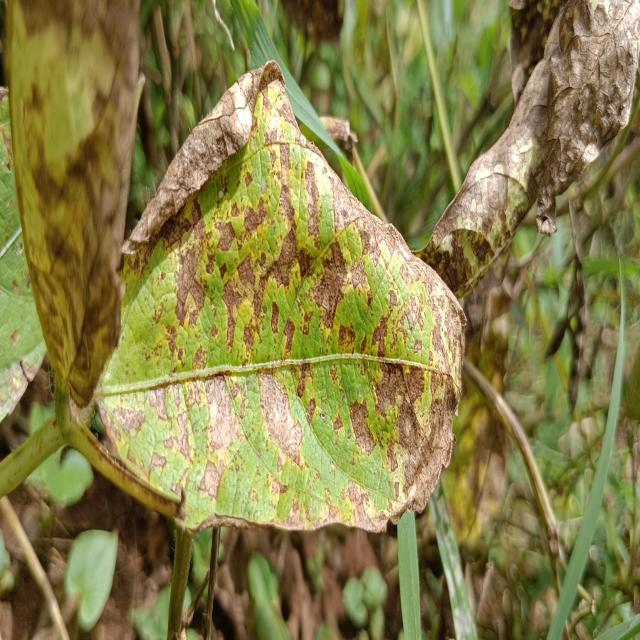Black gram_leaf spot: (88, 55, 468, 543), (422, 0, 639, 294), (2, 0, 140, 419)
